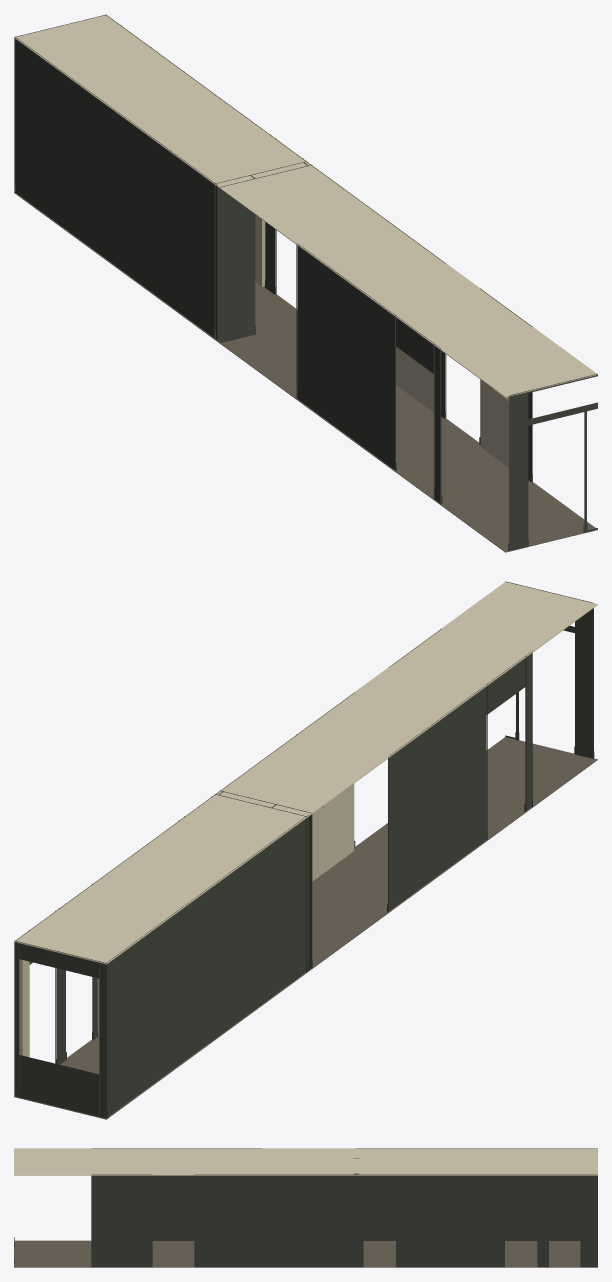
The model's file is corridor-3.glb.
3 renders of one model, top to bottom at view 1: azimuth 30°, elevation 25°; view 2: azimuth 150°, elevation 25°; view 3: azimuth 270°, elevation 25°, orthographic. The views are drawn at different scales.
Visible parts, largest first — view 1: DESIGN | corridor removable wall finish, DESIGN | corridor ceiling finish, DESIGN | corridor floor finish, DESIGN | Timber quiet wall.004, DESIGN | Timber quiet wall.003, DESIGN | Timber quiet wall.001; view 2: DESIGN | corridor removable wall finish, DESIGN | corridor ceiling finish, DESIGN | corridor floor finish, DESIGN | Timber quiet wall.003, DESIGN | Timber quiet wall; view 3: DESIGN | corridor removable wall finish, DESIGN | corridor ceiling finish, DESIGN | corridor floor finish.
Part boxes in pixels (x1,y1,x2,y2): DESIGN | corridor removable wall finish: [14, 14, 597, 550]; DESIGN | corridor ceiling finish: [14, 15, 597, 397]; DESIGN | corridor floor finish: [14, 192, 597, 552]; DESIGN | Timber quiet wall.004: [480, 380, 508, 467]; DESIGN | Timber quiet wall.003: [396, 346, 434, 412]; DESIGN | Timber quiet wall.001: [255, 215, 265, 286]; DESIGN | corridor removable wall finish: [14, 581, 594, 1118]; DESIGN | corridor ceiling finish: [14, 582, 597, 964]; DESIGN | corridor floor finish: [14, 737, 597, 1119]; DESIGN | Timber quiet wall.003: [312, 783, 354, 881]; DESIGN | Timber quiet wall: [19, 959, 29, 1057]; DESIGN | corridor removable wall finish: [14, 1148, 597, 1267]; DESIGN | corridor ceiling finish: [14, 1148, 597, 1175]; DESIGN | corridor floor finish: [14, 1240, 597, 1267].
Size of the model in its own units: 1.7 by 2.74 by 15.63.
